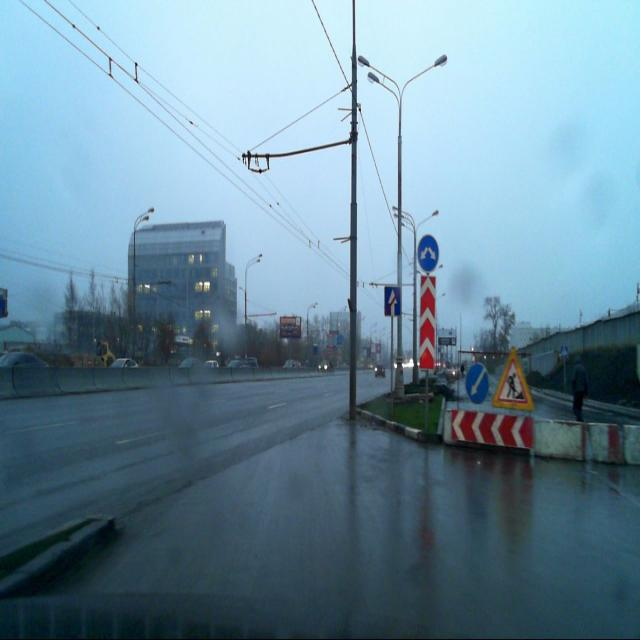object: (450, 410, 534, 452), (419, 276, 438, 372), (391, 315, 394, 420)
road sign: (492, 345, 534, 412), (384, 286, 401, 316)
